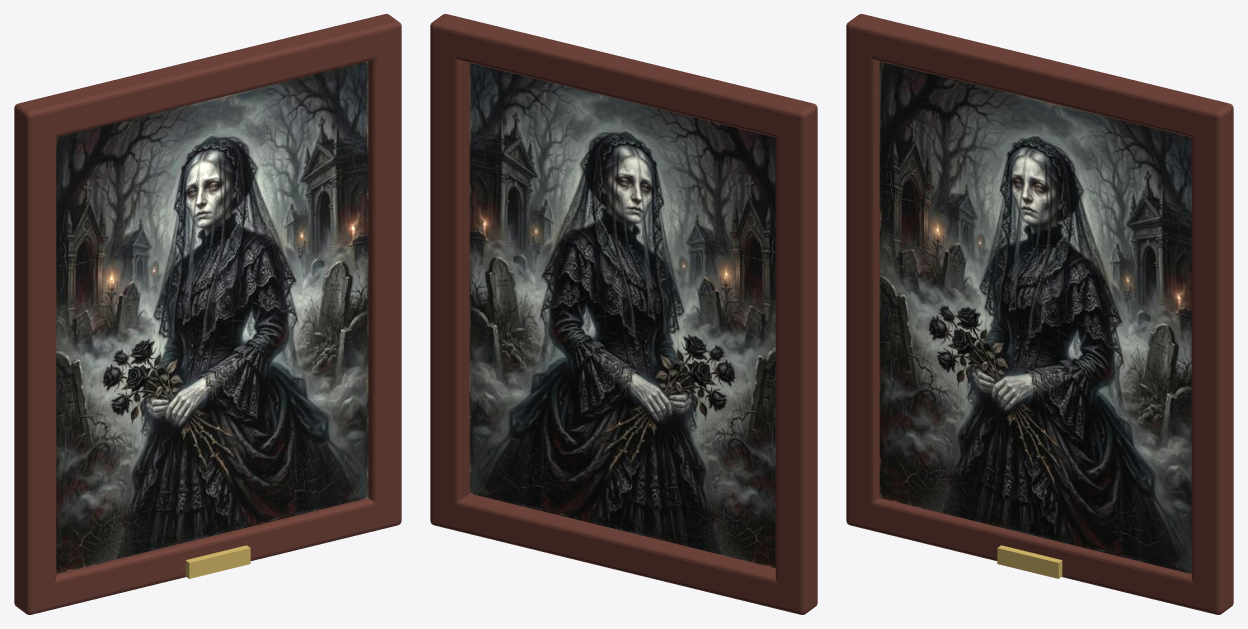
The model's file is art_mourning_lady.glb.
3 renders of one model, left to right at view 1: azimuth 30°, elevation 25°; view 2: azimuth 150°, elevation 25°; view 3: azimuth 330°, elevation 25°, orthographic.
Parts seen in each view (by area): view 1: GD_art_mourning_lady__m0, GD_art_mourning_lady__m1, GD_art_mourning_lady__m2; view 2: GD_art_mourning_lady__m0, GD_art_mourning_lady__m1; view 3: GD_art_mourning_lady__m0, GD_art_mourning_lady__m1, GD_art_mourning_lady__m2.
Boxes of the visible parts, x1,y1,x2,y2 form: GD_art_mourning_lady__m0: [56, 61, 368, 573]; GD_art_mourning_lady__m1: [14, 14, 401, 614]; GD_art_mourning_lady__m2: [185, 545, 250, 578]; GD_art_mourning_lady__m0: [469, 63, 775, 567]; GD_art_mourning_lady__m1: [430, 14, 817, 614]; GD_art_mourning_lady__m0: [879, 61, 1191, 573]; GD_art_mourning_lady__m1: [846, 14, 1233, 614]; GD_art_mourning_lady__m2: [997, 545, 1062, 578].
Size of the model in its own units: 0.86 by 1.1 by 0.0775.
Materials: 3 (1 with a texture image).
